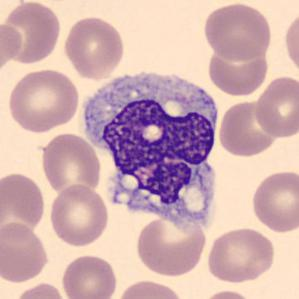Monocyte: (78, 60, 225, 231)
RBC: (5, 66, 80, 134), (133, 212, 209, 278), (201, 1, 273, 62), (61, 14, 126, 81), (205, 226, 278, 284), (46, 182, 110, 248), (39, 131, 103, 195), (1, 0, 63, 66), (216, 98, 282, 159), (206, 41, 271, 97), (0, 218, 50, 284), (0, 170, 47, 240), (250, 168, 298, 234), (252, 74, 298, 140), (59, 252, 119, 299), (113, 277, 186, 299), (0, 21, 25, 76), (282, 8, 299, 78), (12, 281, 69, 299), (197, 287, 258, 299)
